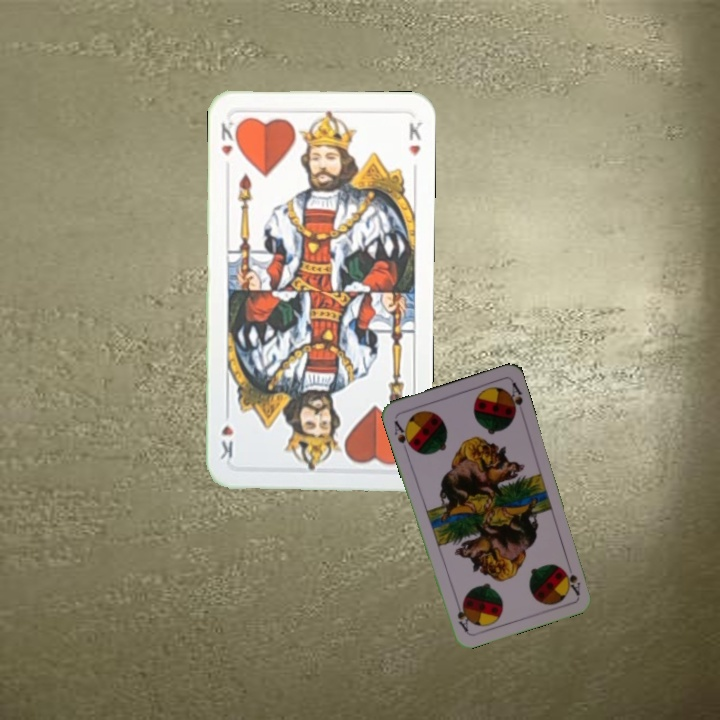HK: (217, 117, 241, 158)
SA: (390, 417, 415, 452), (560, 565, 583, 598)
